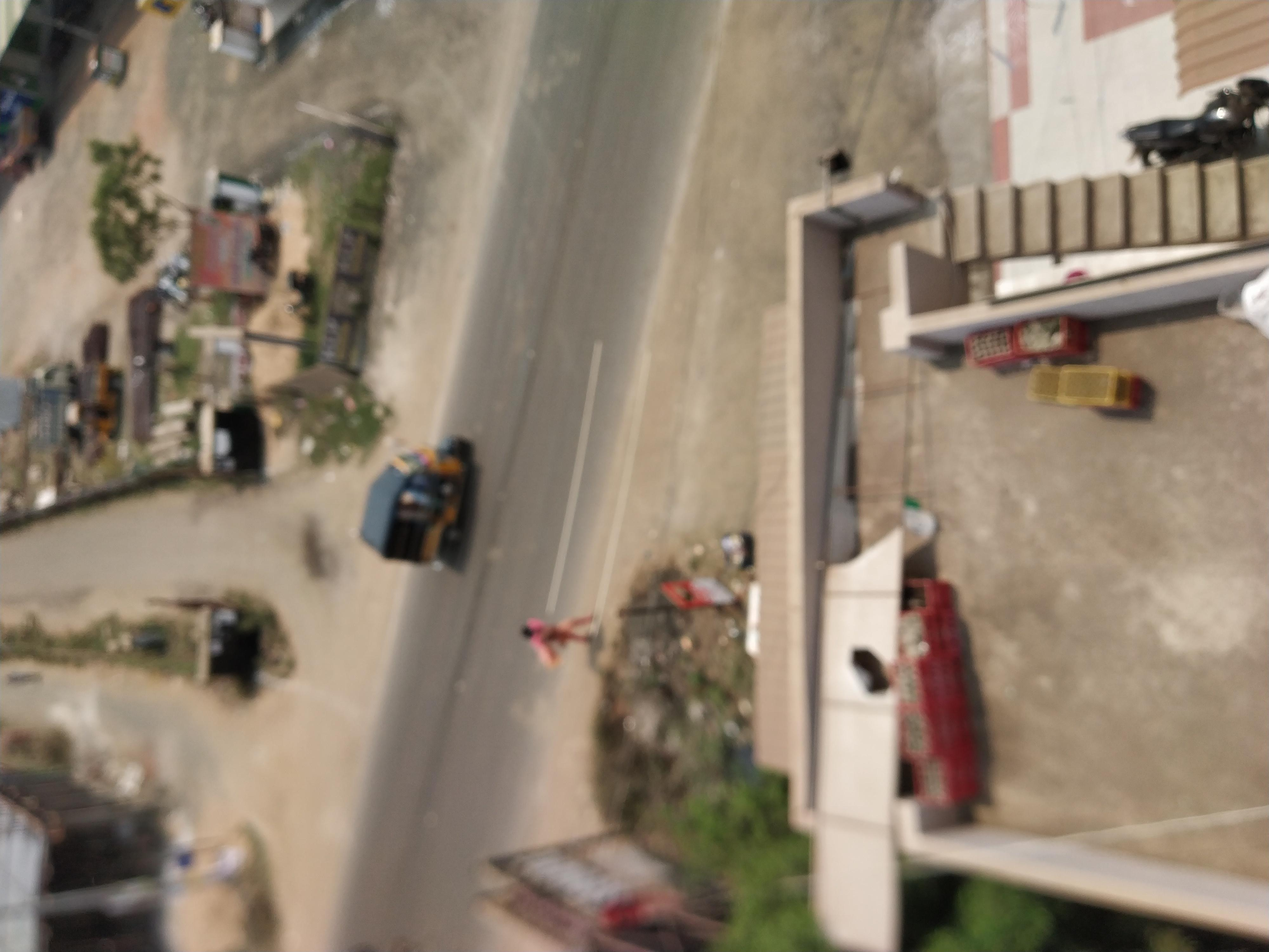Auto: (474, 256, 711, 368)
